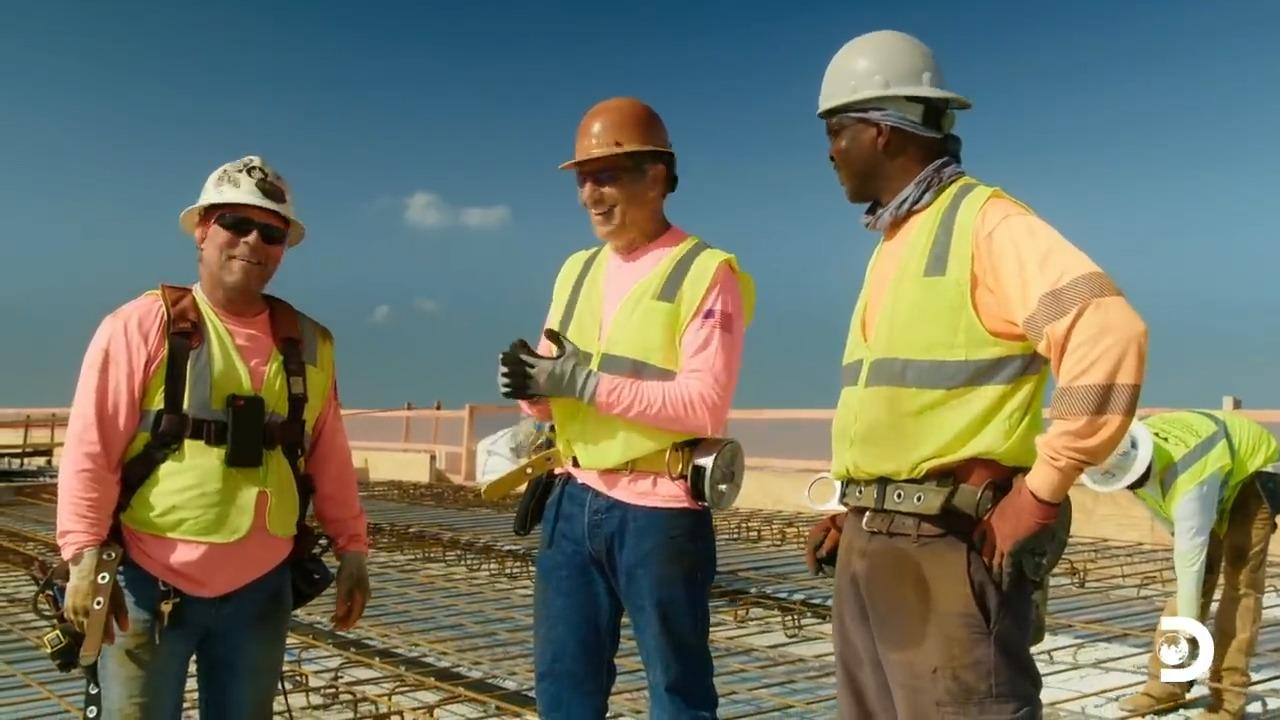Gloves: (491, 330, 584, 404), (975, 491, 1037, 575), (327, 551, 378, 626), (796, 518, 855, 571)
Helmet: (816, 28, 971, 119), (178, 155, 305, 248), (557, 95, 674, 170), (1090, 431, 1153, 507)
Person: (804, 28, 1149, 719), (54, 154, 370, 719), (497, 95, 755, 719), (1078, 407, 1279, 719)
Safety Boot: (1118, 686, 1194, 718)
Safety Vest: (145, 309, 320, 541), (866, 226, 1042, 453), (561, 262, 731, 462), (1156, 412, 1275, 501)
no-helmet: (57, 559, 124, 619)
